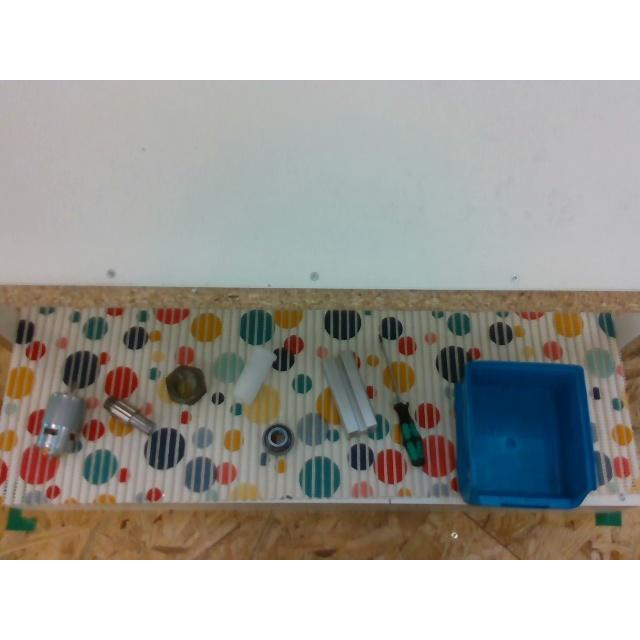Axis2: (103, 396, 155, 436)
Bearing2: (261, 423, 293, 451)
M30: (164, 362, 208, 406)
Motor2: (36, 392, 84, 456)
S40_40_G: (324, 352, 376, 434)
Screwdriver: (386, 362, 426, 466)
Spacer: (233, 345, 274, 403)
container_box_blue: (456, 360, 596, 508)
